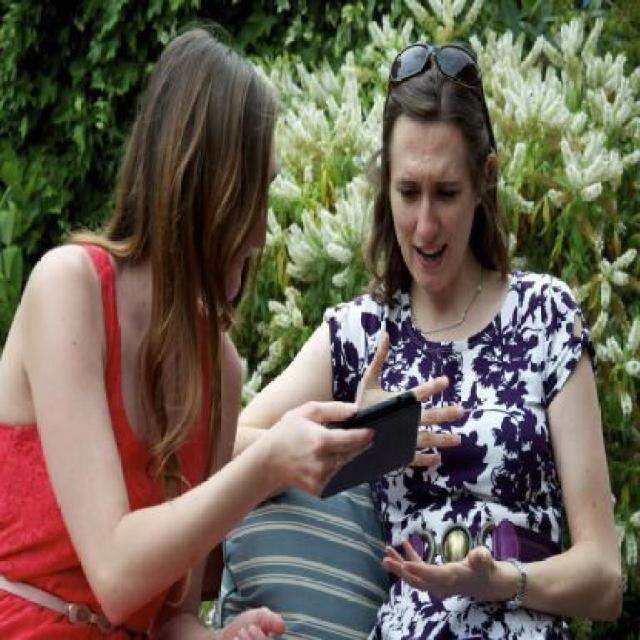face_nomask: (390, 159, 472, 270)
glasses: (393, 44, 485, 99)
hand_noglove: (268, 391, 381, 504), (373, 532, 504, 599)
head_nohelmet: (140, 24, 274, 104)
person: (298, 31, 618, 640), (0, 47, 272, 640)
